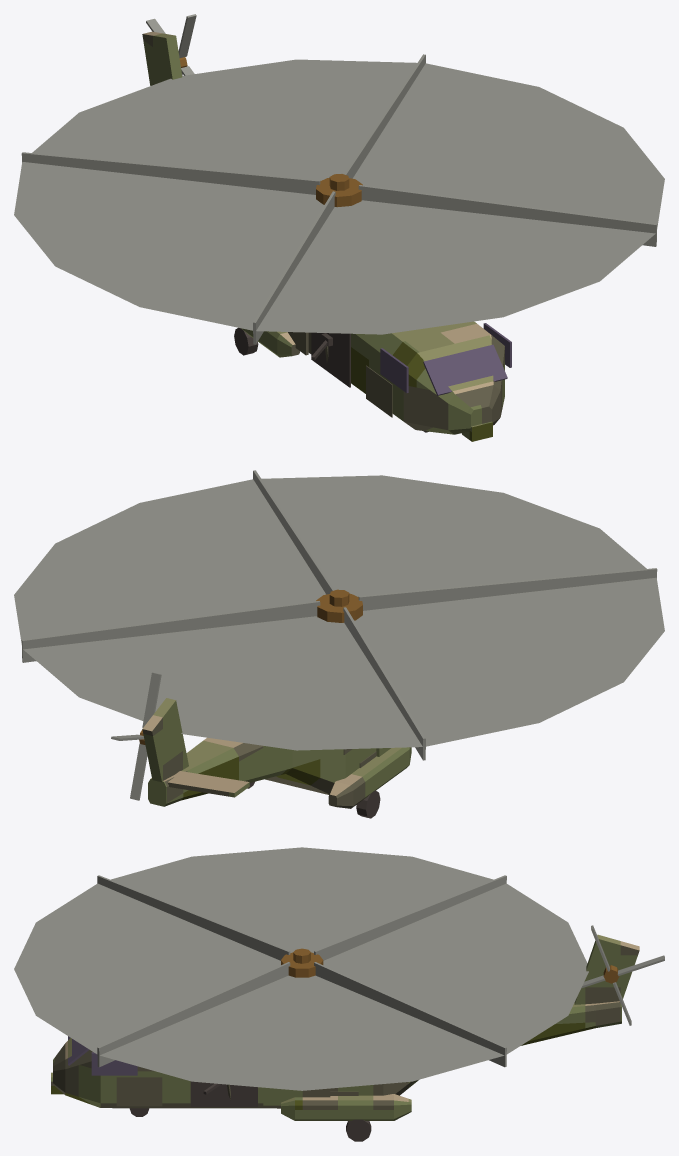
File: SM_NH90_v4_Urbano_LOD0.fbx
3 renders of one model, top to bottom at view 1: azimuth 30°, elevation 25°; view 2: azimuth 150°, elevation 25°; view 3: azimuth 270°, elevation 25°, orthographic. The views are drawn at different scales.
Parts seen in each view (by area): view 1: DiscoRotor, SM_bloques.nh90_v4_LOD0, RotorPrincipal, RotorCola; view 2: DiscoRotor, SM_bloques.nh90_v4_LOD0, RotorPrincipal, RotorCola; view 3: DiscoRotor, SM_bloques.nh90_v4_LOD0, RotorPrincipal, RotorCola.
Part boxes in pixels (bbox=[...]): DiscoRotor: bbox=[14, 59, 664, 334]; SM_bloques.nh90_v4_LOD0: bbox=[142, 31, 511, 441]; RotorPrincipal: bbox=[21, 54, 657, 344]; RotorCola: bbox=[146, 14, 196, 75]; DiscoRotor: bbox=[14, 475, 664, 750]; SM_bloques.nh90_v4_LOD0: bbox=[142, 698, 411, 818]; RotorPrincipal: bbox=[21, 470, 657, 760]; RotorCola: bbox=[111, 672, 161, 800]; DiscoRotor: bbox=[14, 847, 588, 1090]; SM_bloques.nh90_v4_LOD0: bbox=[51, 934, 639, 1141]; RotorPrincipal: bbox=[97, 875, 506, 1067]; RotorCola: bbox=[581, 925, 664, 1025].
Size of the model in its own units: 16.3 by 6.05 by 18.41.
